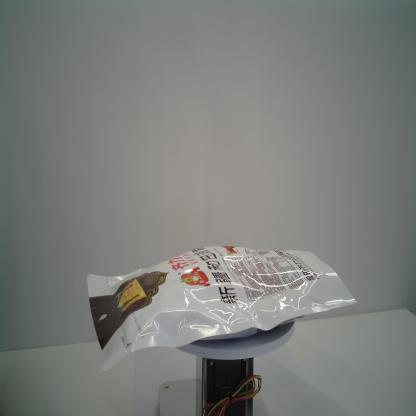Dried Food: (86, 244, 357, 373)
